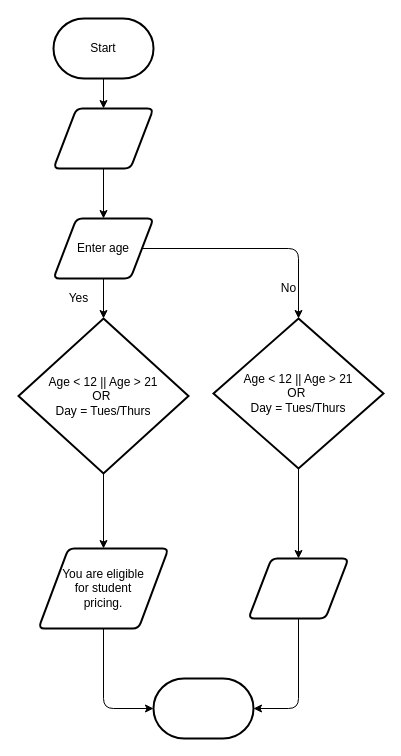
Image size: 401x756. Some labels were removed from this diagram. Here are the shapes that lost their labels. From the top down, the box of each, then its label:
(52, 107, 154, 169): User Selects day of the week
(247, 557, 349, 619): You must pay regular price.
(152, 677, 254, 739): Stop
